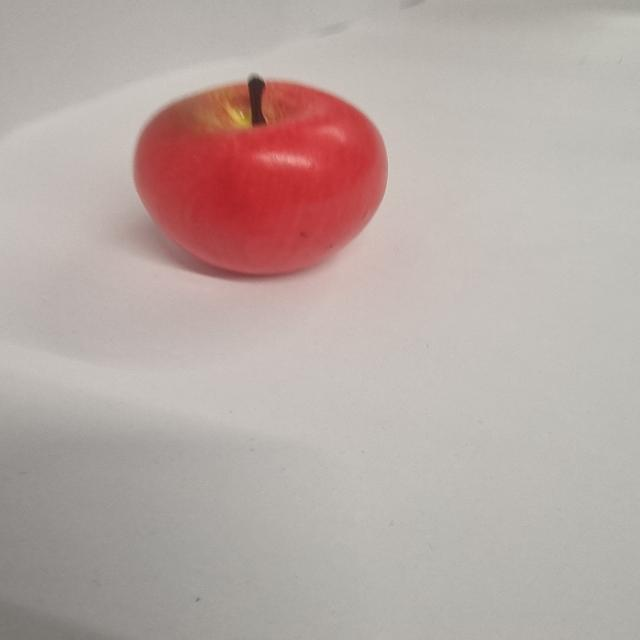apple: (136, 72, 387, 276)
